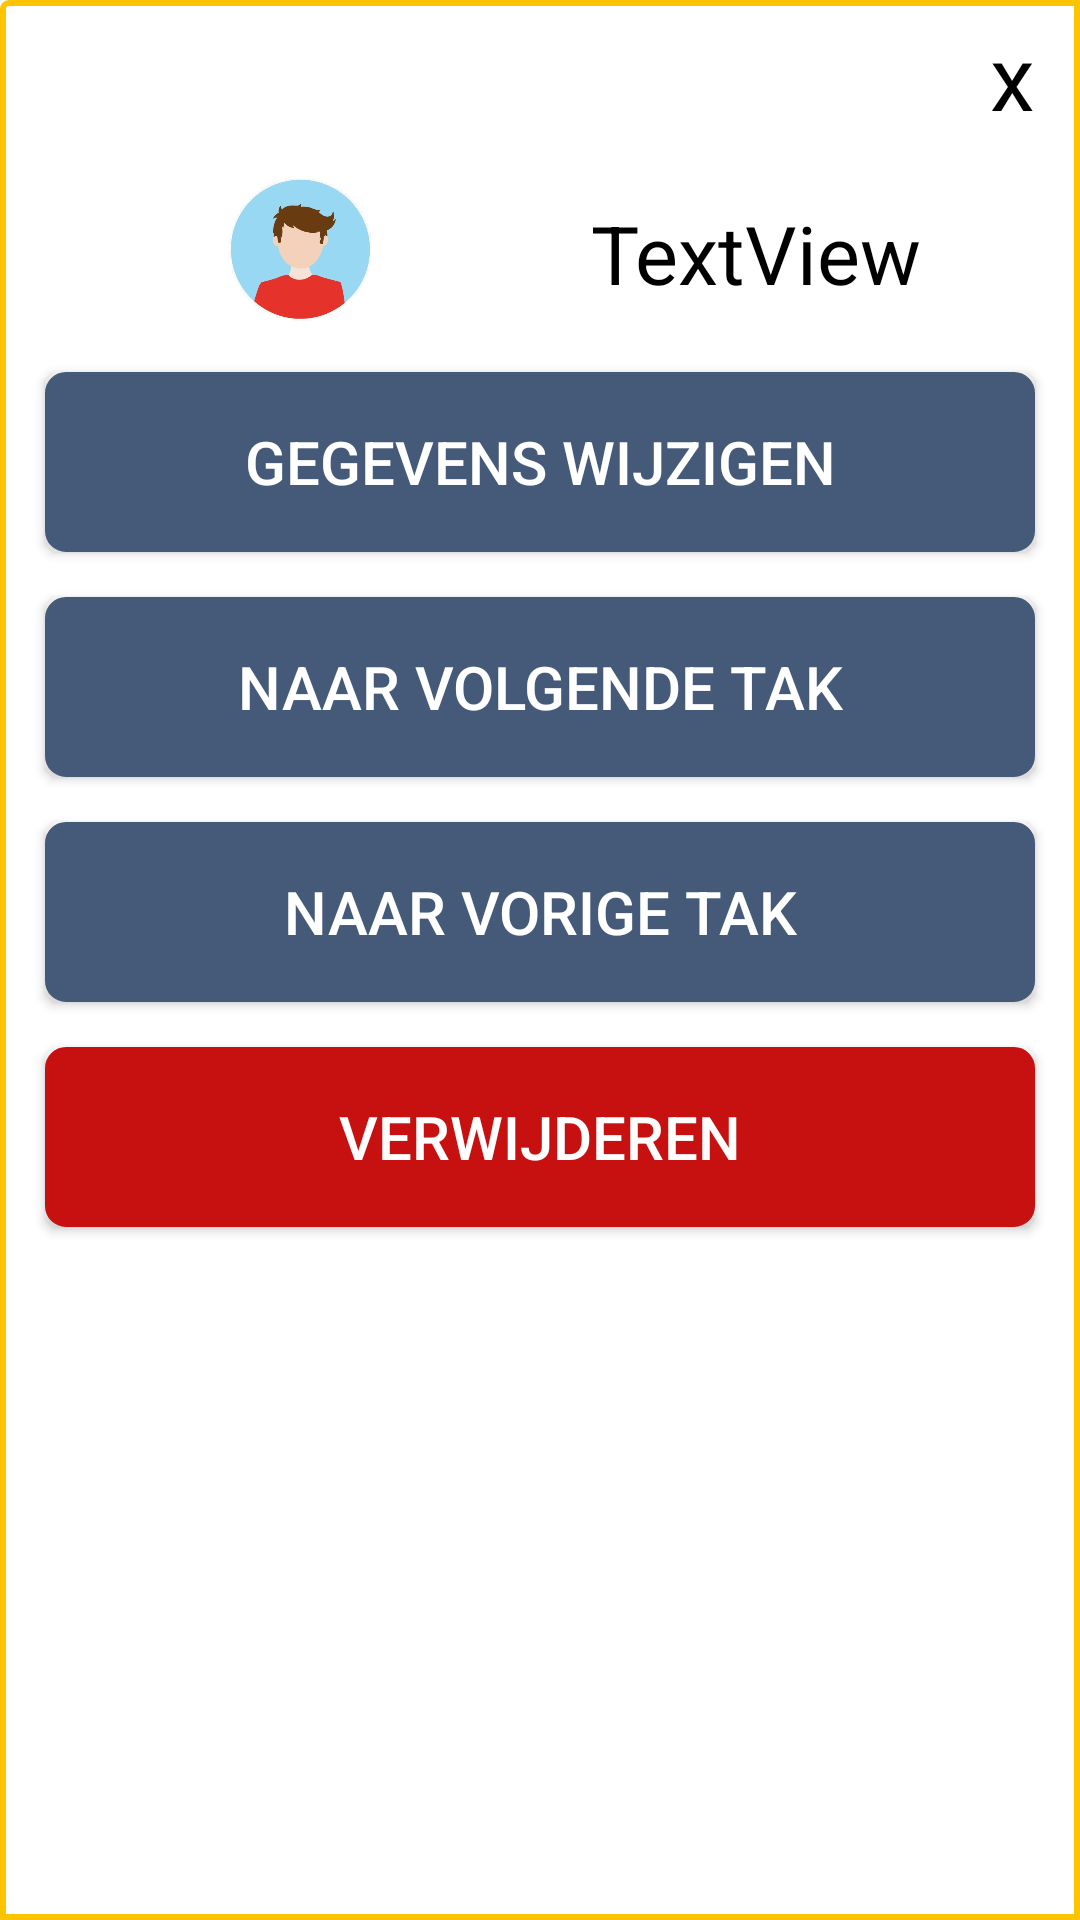

Screen size 1080 x 1920. Icon name, then its box in pixels as (left=x1, top=y1, right=x2, bottom=y2):
boy: (left=231, top=179, right=370, bottom=319)
